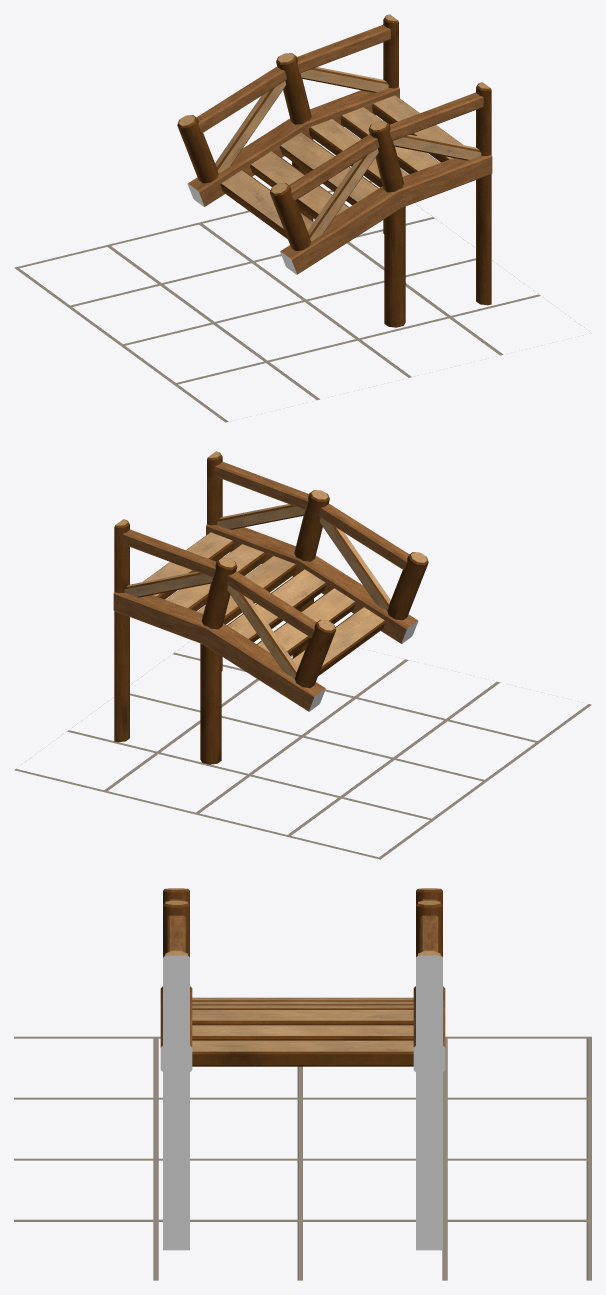
File: Prop_Bridge_End_2x2.glb
The picture shows the model from 3 angles, top to bottom: view 1: azimuth 30°, elevation 25°; view 2: azimuth 150°, elevation 25°; view 3: azimuth 270°, elevation 25°; orthographic projection. The views are drawn at different scales.
Parts seen in each view (by area): view 1: Prop_Bridge_End_2x2, Floor; view 2: Prop_Bridge_End_2x2, Floor; view 3: Prop_Bridge_End_2x2, Floor.
Part boxes in pixels (left/top/right/bottom): Prop_Bridge_End_2x2: left=177, top=14, right=492, bottom=327; Floor: left=14, top=181, right=589, bottom=422; Prop_Bridge_End_2x2: left=113, top=451, right=428, bottom=764; Floor: left=14, top=642, right=591, bottom=859; Prop_Bridge_End_2x2: left=160, top=888, right=445, bottom=1250; Floor: left=14, top=1036, right=591, bottom=1280.
Bounding box in the file's own units: 400 × 225 × 400.
6 materials, 5 textured.
